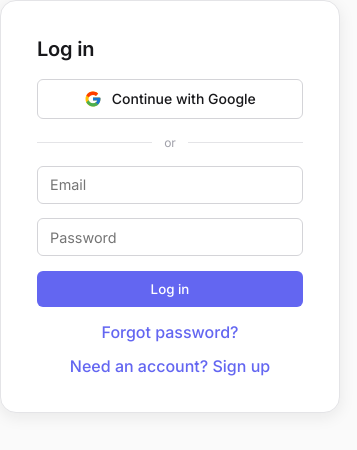
LoginForm › only shows the display name field in register mode
The image size is (357, 450).
Expected: the field with placeholder "Display name" is not shown
What coordinates should you click on to do the following:
click the button "Need an account? Sign up"
I would click on:
 (170, 366)
Its box is [37, 356, 303, 376].
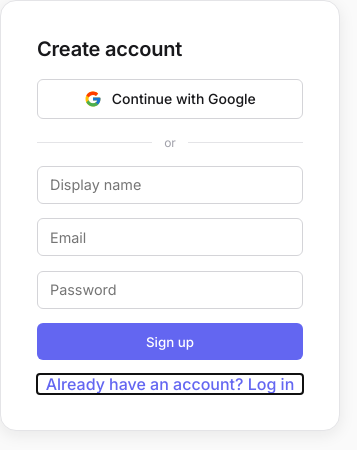
Expected: the field with placeholder "Display name" is shown, [37, 166, 303, 204]
